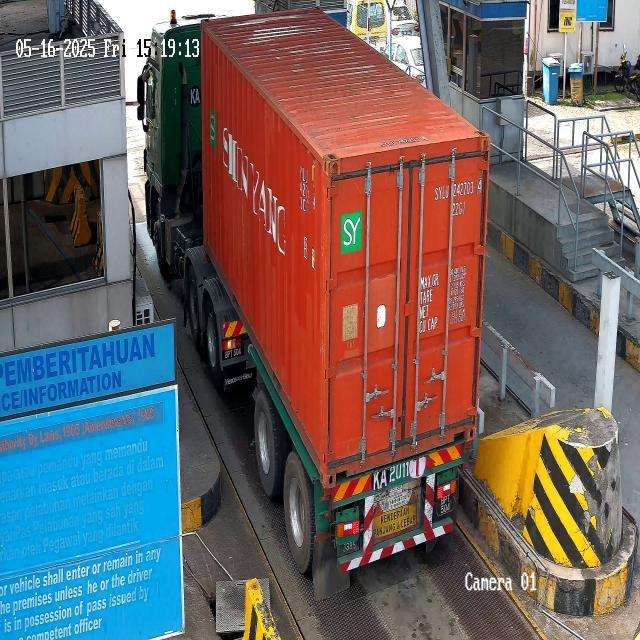ISO: (297, 234, 319, 276)
container_number: (298, 156, 320, 227)
